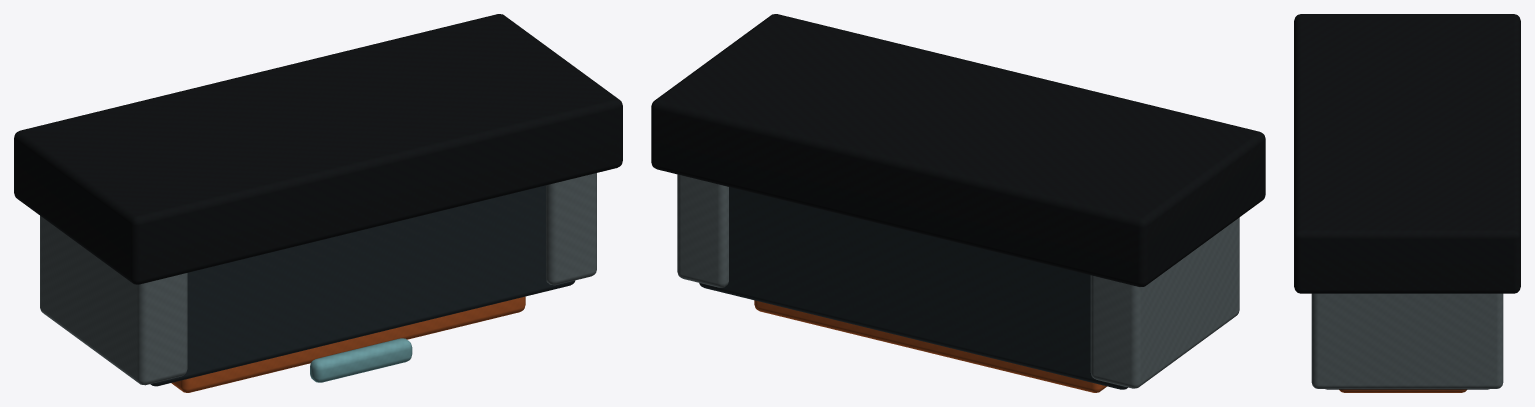
Rendered from CeilingEmergencyLight.fbx.
The picture shows the model from 3 angles, left to right: view 1: azimuth 30°, elevation 25°; view 2: azimuth 150°, elevation 25°; view 3: azimuth 270°, elevation 25°; orthographic projection. The views are drawn at different scales.
Visible parts, largest first — view 1: CeilingEmergencyLight_Mesh; view 2: CeilingEmergencyLight_Mesh; view 3: CeilingEmergencyLight_Mesh.
Boxes of the visible parts, x1,y1,x2,y2 form: CeilingEmergencyLight_Mesh: (14, 14, 622, 392); CeilingEmergencyLight_Mesh: (651, 14, 1265, 392); CeilingEmergencyLight_Mesh: (1294, 14, 1520, 392).
Bounding box in the file's own units: 60 × 26.25 × 26.
